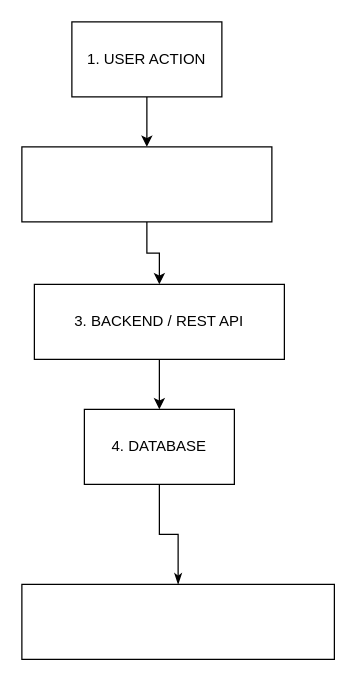
Some shapes in this 356 by 681 pixel diagram are drawn without their labels. The shapes that lost their labels are listed below. From the top down, each one's centre as x and y in pixels, then its label:
At (146,184): "2. FRONTEND (Web Application)".
At (177,621): "5. ANALYTICS DASHBOARD (Power BI)".
